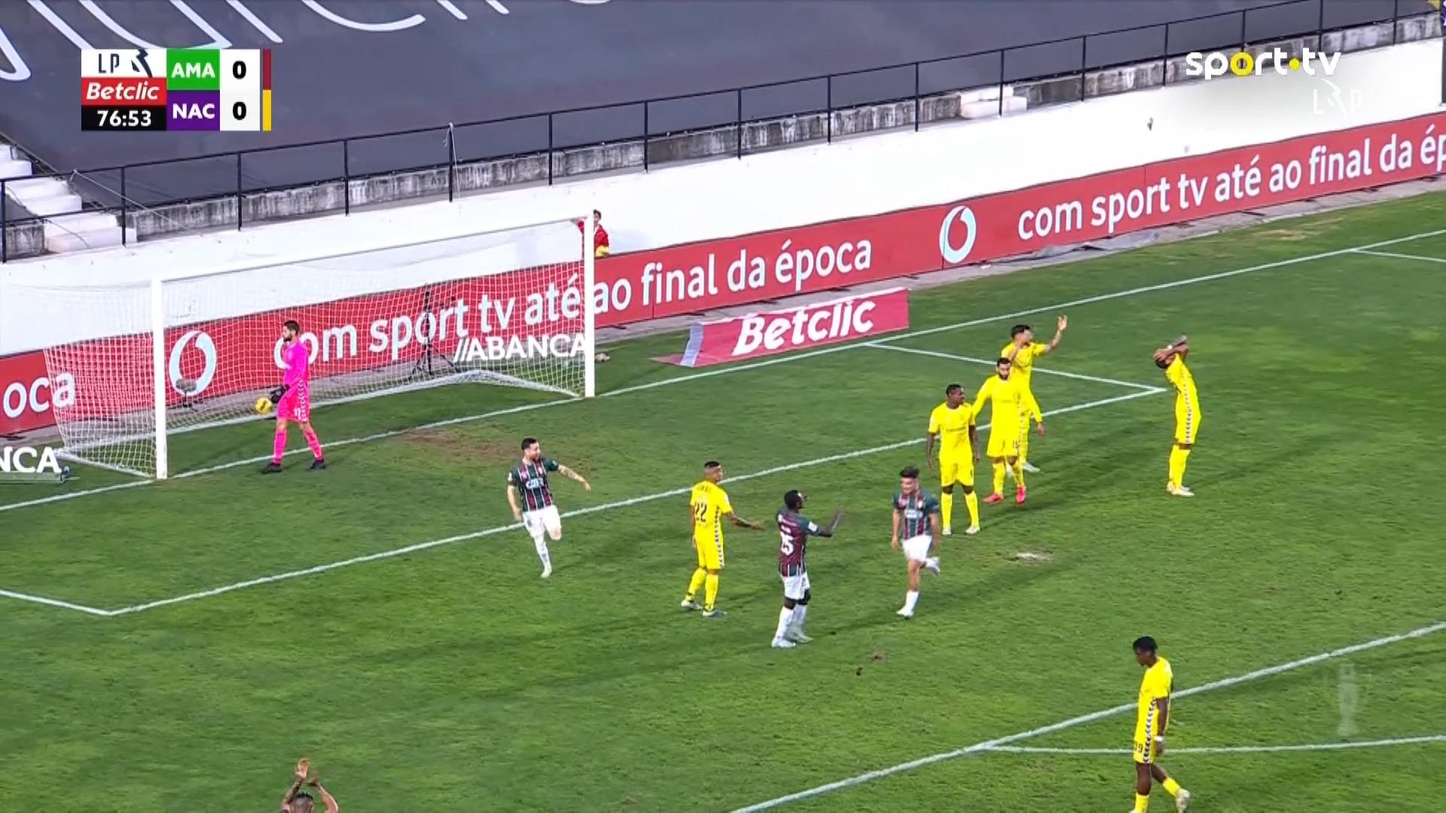ball: (254, 396, 271, 414)
goalkeeper: (258, 319, 327, 473)
player: (679, 459, 765, 617), (505, 436, 591, 579), (770, 488, 844, 648), (996, 312, 1068, 475), (1127, 635, 1191, 811), (969, 356, 1038, 505), (924, 382, 981, 537), (1152, 333, 1202, 497), (889, 464, 942, 618), (280, 757, 339, 811)
